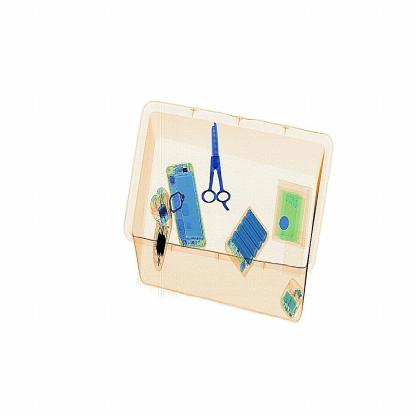gun: (196, 122, 238, 211)
